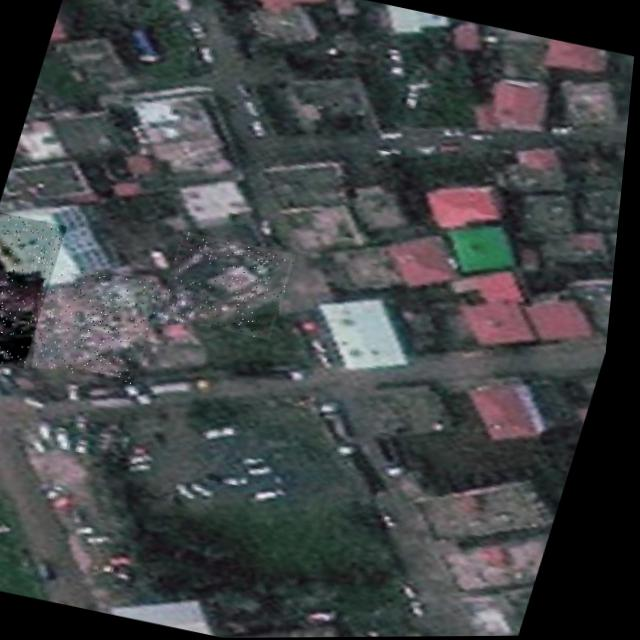Rubble: (25, 259, 170, 386), (159, 230, 301, 340), (0, 210, 71, 368)
